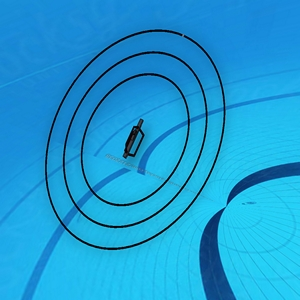circle: (38, 9, 246, 269)
submarine: (122, 120, 152, 165)
